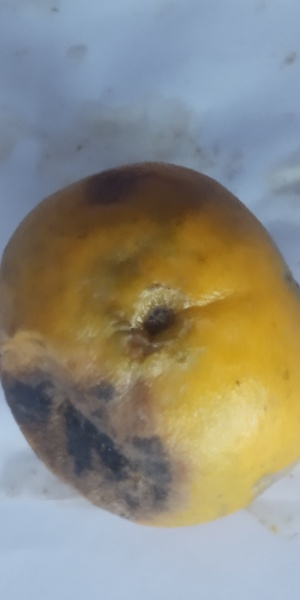BAD: (1, 149, 300, 534)
